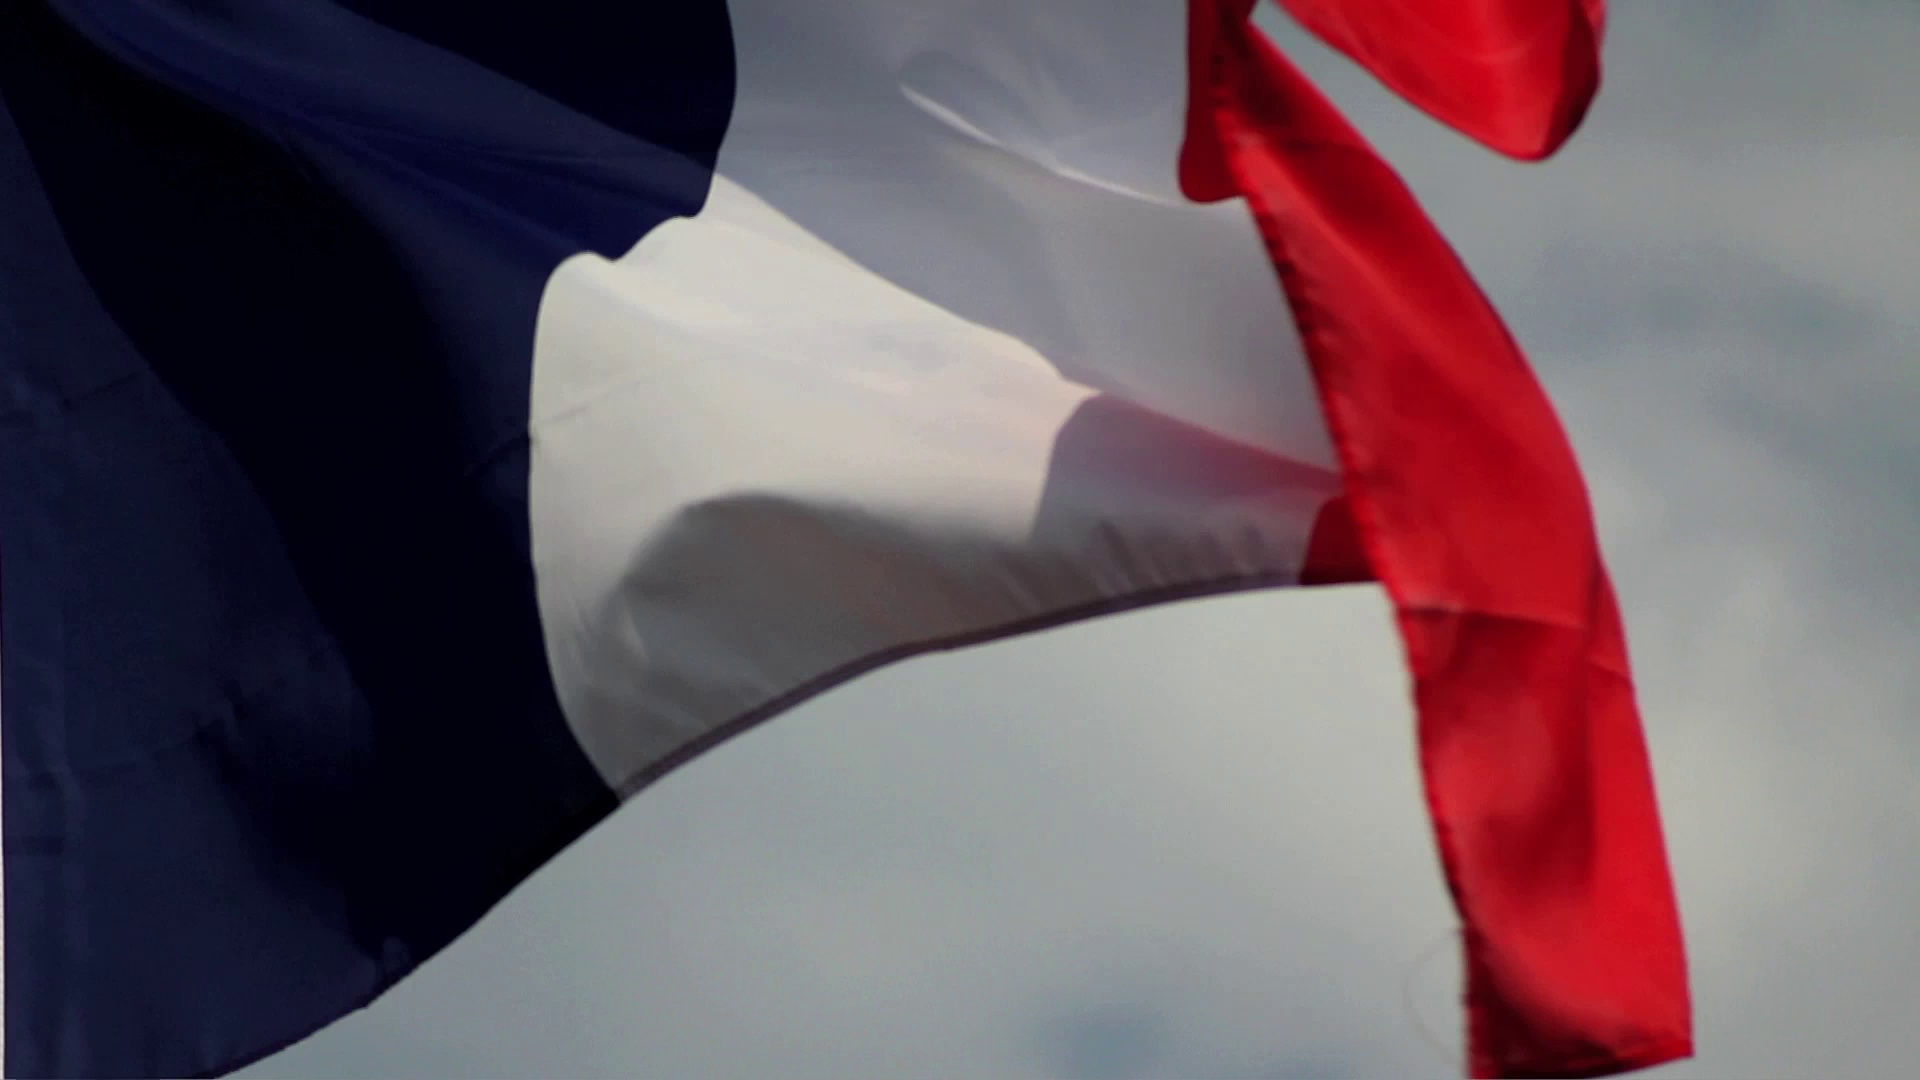French Flag: (1, 1, 1700, 1080)
